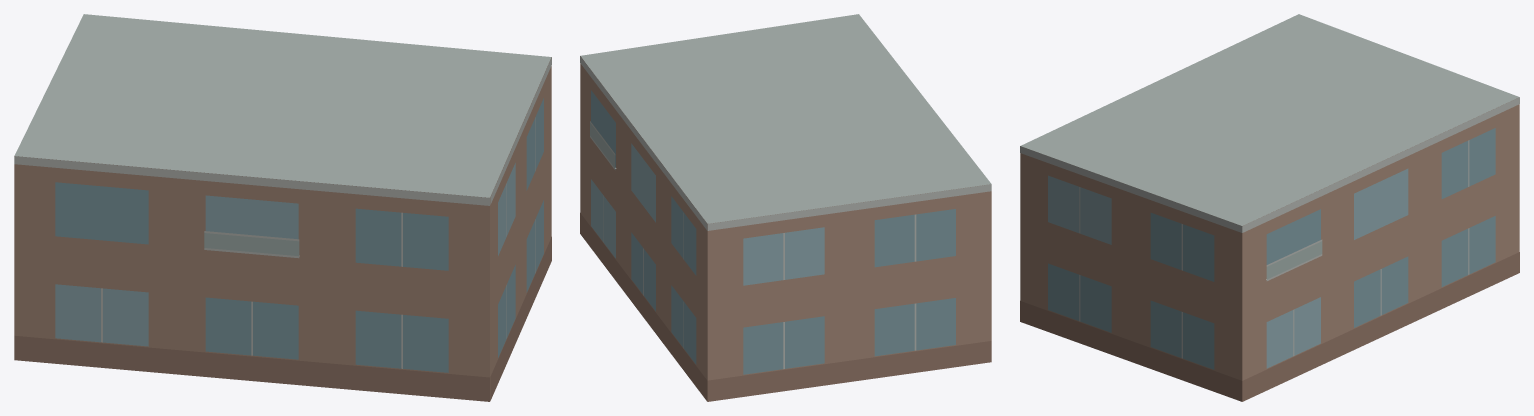
The model's file is survey-upis-32778493.glb.
3 renders of one model, left to right at view 1: azimuth 30°, elevation 25°; view 2: azimuth 150°, elevation 25°; view 3: azimuth 270°, elevation 25°, orthographic. The views are drawn at different scales.
Parts seen in each view (by area): view 1: survey-upis-32778493.tmp; view 2: survey-upis-32778493.tmp; view 3: survey-upis-32778493.tmp.
Part boxes in pixels (left/top/right/bottom): survey-upis-32778493.tmp: left=14, top=14, right=551, bottom=401; survey-upis-32778493.tmp: left=580, top=14, right=991, bottom=401; survey-upis-32778493.tmp: left=1020, top=14, right=1519, bottom=401.
Bounding box in the file's own units: 15.79 × 6.1 × 15.71.
